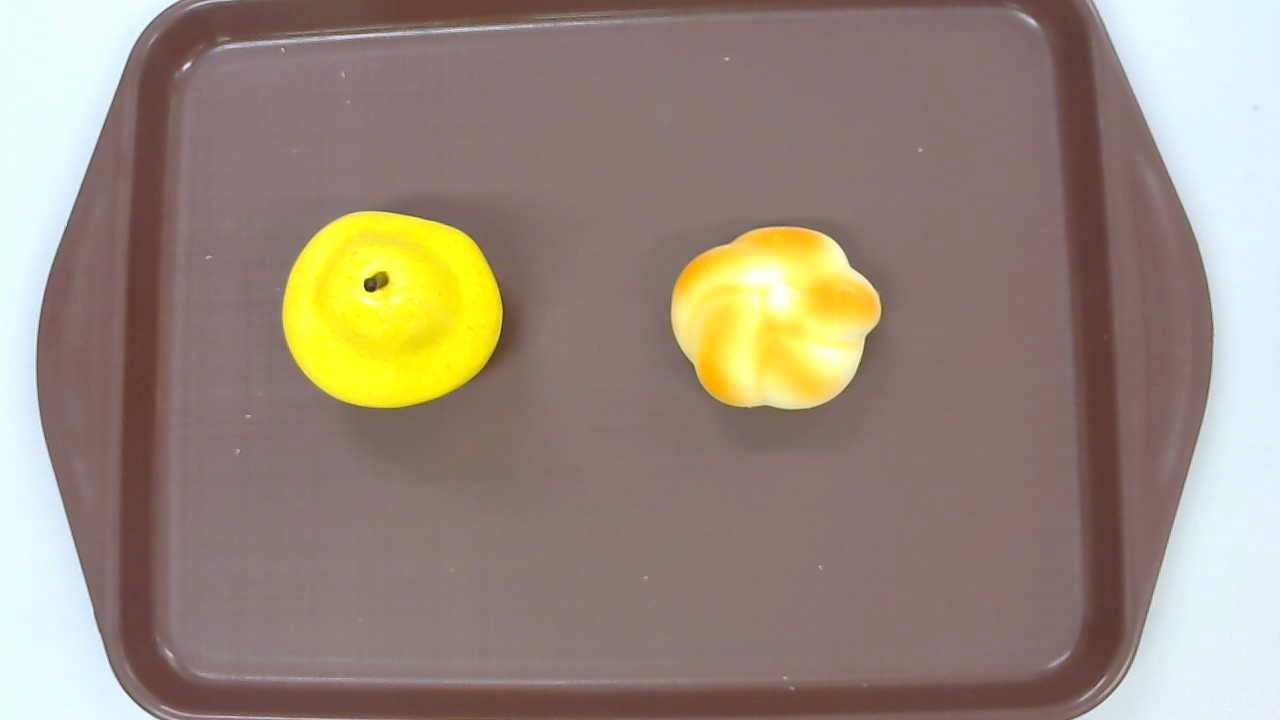twist bread: (670, 224, 881, 411)
yellow pear: (280, 211, 503, 409)
